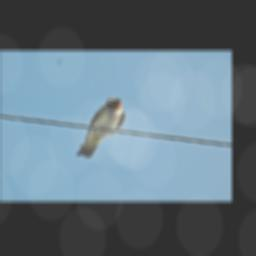Swallow: (75, 97, 126, 159)
